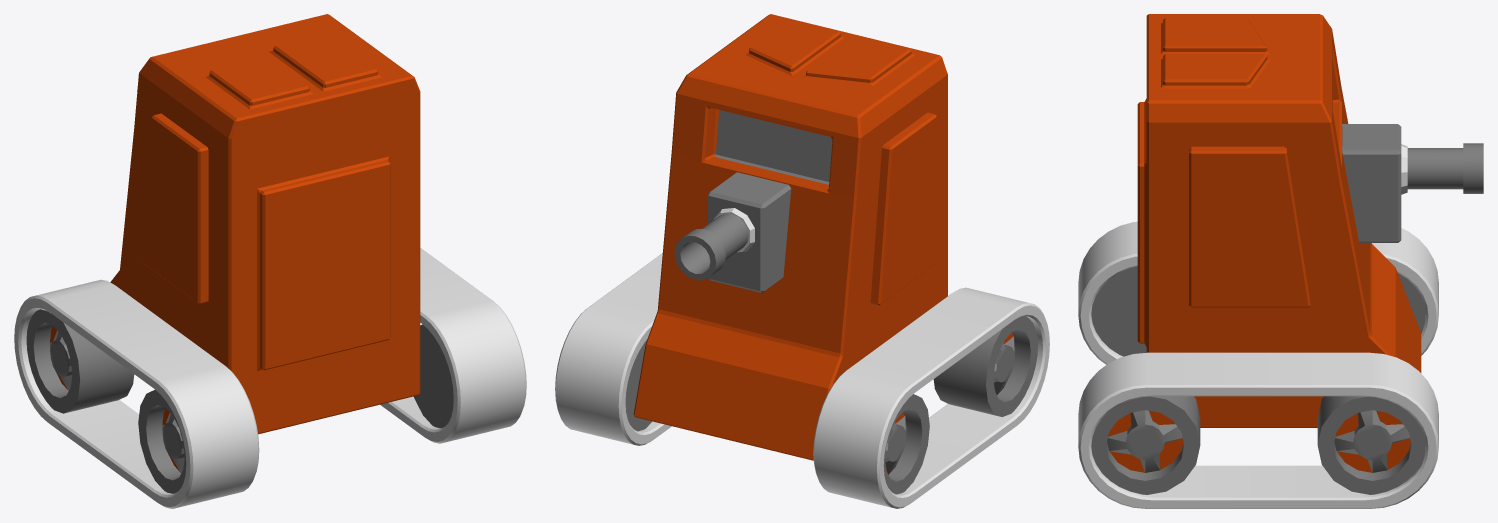
File: tank-01.glb
3 views of the same model, side by side, from view 1: azimuth 30°, elevation 25°; view 2: azimuth 150°, elevation 25°; view 3: azimuth 270°, elevation 25° (orthographic). The views are drawn at different scales.
Visible parts, largest first — view 1: Body, Tracks-R, Tracks-L, Wheel-FL, Wheel-BL, Wheel-FR; view 2: Body, Tracks-R, Tracks-L, Weapon-Laser, Wheel-BL, Wheel-FL, Weapon-Cannon, Wheel-BR; view 3: Body, Tracks-L, Wheel-FR, Wheel-BR, Tracks-R, Weapon-Laser, Weapon-Cannon, Wheel-BL, Wheel-FL.
Part boxes in pixels (x1,y1,x2,y2): Body: (110, 14, 420, 434); Tracks-R: (14, 279, 259, 508); Tracks-L: (380, 248, 526, 443); Wheel-FL: (26, 309, 134, 413); Wheel-BL: (138, 390, 186, 493); Wheel-FR: (413, 324, 453, 428); Body: (633, 14, 947, 460); Tracks-R: (813, 287, 1049, 508); Tracks-L: (555, 253, 671, 445); Weapon-Laser: (707, 172, 791, 292); Wheel-BL: (933, 316, 1037, 416); Wheel-FL: (883, 394, 929, 494); Weapon-Cannon: (674, 213, 748, 280); Wheel-BR: (625, 339, 652, 431); Body: (1137, 14, 1421, 427); Tracks-L: (1078, 352, 1438, 508); Wheel-FR: (1091, 396, 1200, 494); Wheel-BR: (1317, 396, 1425, 494); Tracks-R: (1078, 221, 1438, 364); Weapon-Laser: (1342, 124, 1407, 242); Weapon-Cannon: (1407, 143, 1483, 193); Wheel-BL: (1091, 266, 1146, 356); Wheel-FL: (1398, 273, 1425, 331).
Size of the model in its own units: 3.51 by 3.72 by 3.62.
